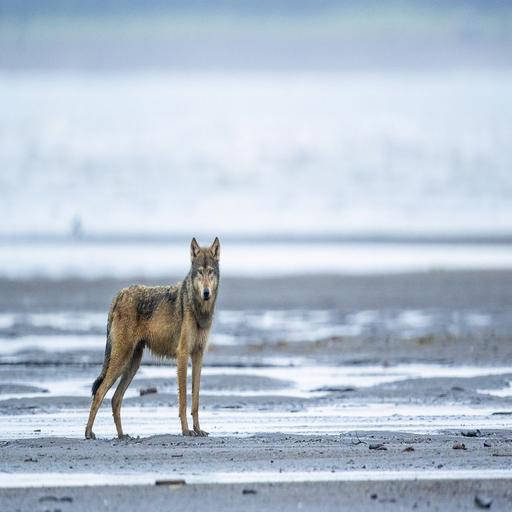Wolf: (78, 238, 228, 442)
